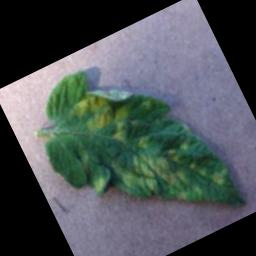Leaf_Mold: (109, 124, 199, 222), (68, 81, 139, 155)
